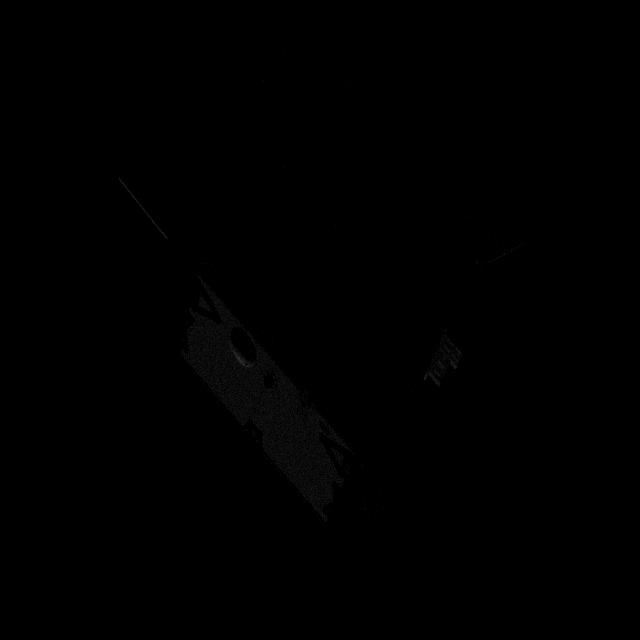medium_debris: (100, 22, 544, 598)
